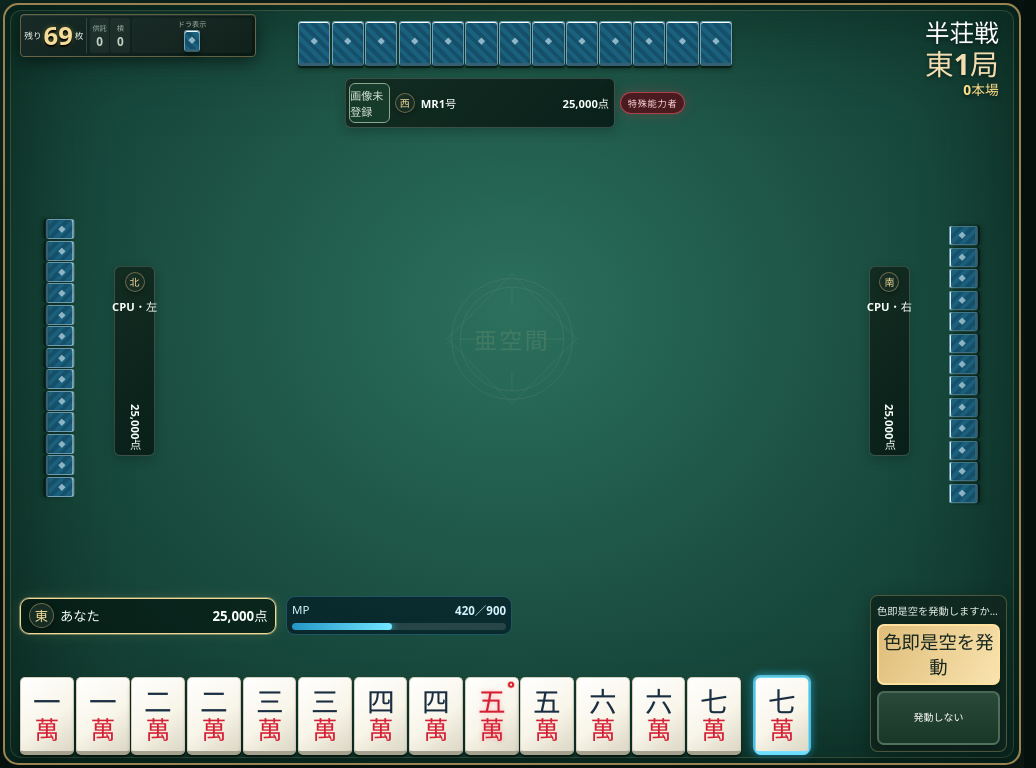
Test: プレイヤースキル4-17の画面操作 › 3-14を見送った後に4-17を表示する
Click the button "発動しない". click: [938, 718]
box: [877,691,1000,745]
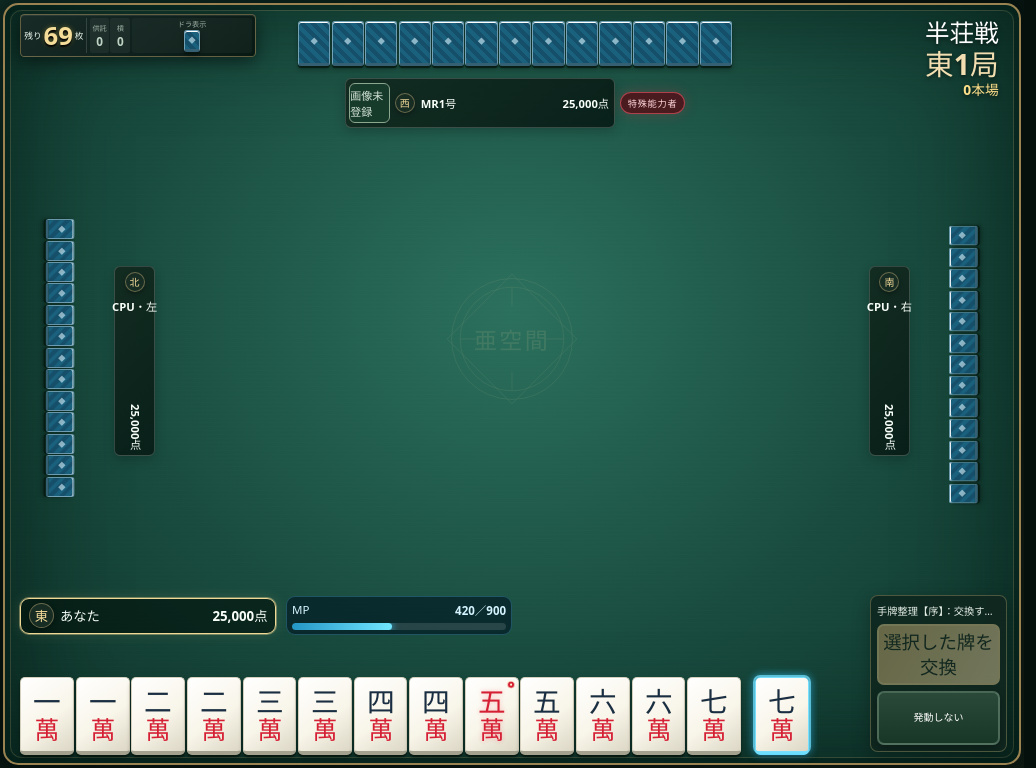
Expected: the text "手牌整理【序】：交換する牌を選択（0／6枚）" is shown, [877,602,1000,618]
Expected: the button "選択した牌を交換" is shown, [877,624,1000,685]
